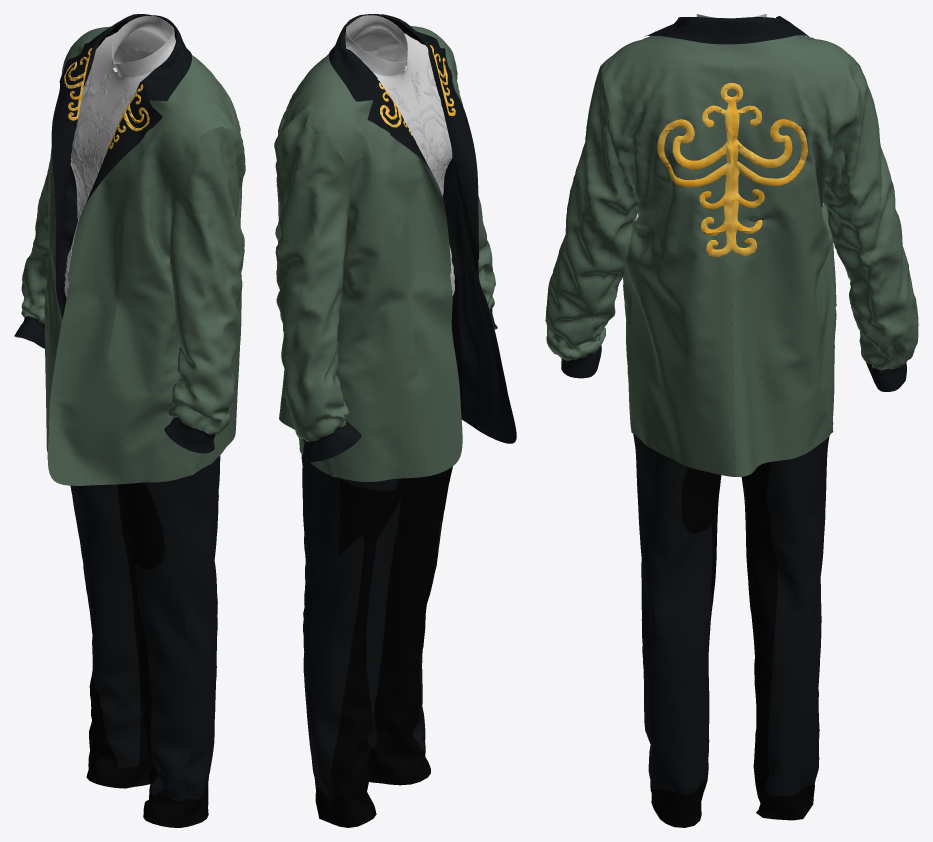
File: clothing.glb
The picture shows the model from 3 angles, left to right: view 1: azimuth 30°, elevation 25°; view 2: azimuth 150°, elevation 25°; view 3: azimuth 270°, elevation 25°; orthographic projection. The views are drawn at different scales.
Visible parts, largest first — view 1: Object_2, Object_11, Object_3, Object_8, Object_9, Object_16, Object_14, Object_17, Object_4; view 2: Object_2, Object_11, Object_3, Object_8, Object_9, Object_16, Object_14, Object_4; view 3: Object_2, Object_11, Object_14, Object_3.
Boxes of the visible parts, left/top/right/bottom form: Object_2: left=15, top=15, right=245, bottom=485; Object_11: left=60, top=277, right=220, bottom=827; Object_3: left=14, top=14, right=241, bottom=453; Object_8: left=65, top=31, right=175, bottom=292; Object_9: left=112, top=16, right=173, bottom=63; Object_16: left=64, top=65, right=133, bottom=297; Object_14: left=64, top=48, right=149, bottom=149; Object_17: left=65, top=64, right=132, bottom=291; Object_4: left=14, top=44, right=241, bottom=473; Object_2: left=274, top=14, right=497, bottom=481; Object_11: left=301, top=275, right=461, bottom=827; Object_3: left=302, top=14, right=516, bottom=462; Object_8: left=345, top=31, right=454, bottom=291; Object_9: left=346, top=15, right=407, bottom=62; Object_16: left=388, top=61, right=454, bottom=296; Object_14: left=379, top=45, right=455, bottom=137; Object_4: left=285, top=42, right=516, bottom=441; Object_2: left=545, top=35, right=918, bottom=476; Object_11: left=633, top=434, right=829, bottom=827; Object_14: left=657, top=83, right=807, bottom=257; Object_3: left=561, top=16, right=906, bottom=391.
Bounding box in the file's own units: 0.5364 × 1.89 × 0.7957.
10 materials, 8 textured.
